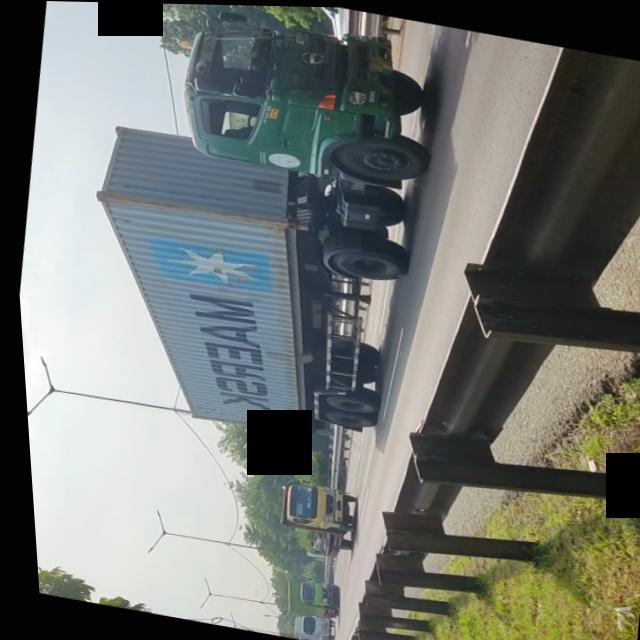Golongan IV: (117, 2, 459, 451)
